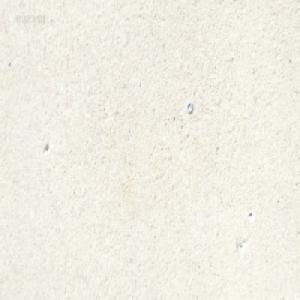Washer: (186, 101, 193, 116)
